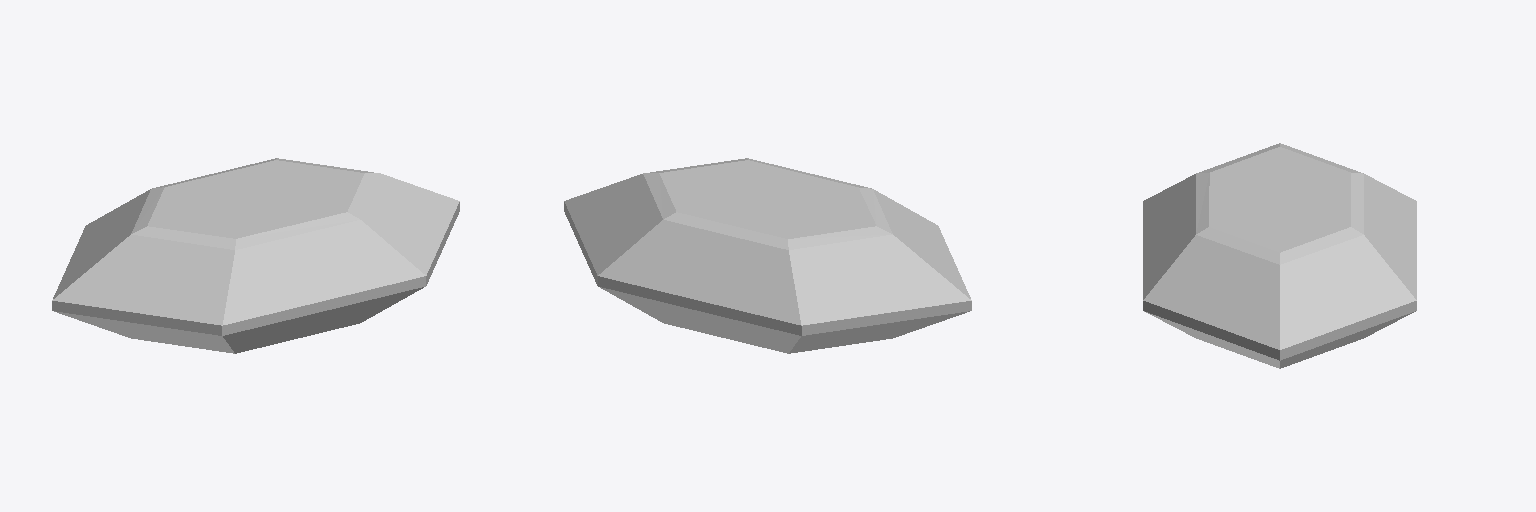
File: Gemstone.obj
The picture shows the model from 3 angles: view 1: azimuth 30°, elevation 25°; view 2: azimuth 150°, elevation 25°; view 3: azimuth 270°, elevation 25°; orthographic projection.
Visible parts, largest first — view 1: Gemstone1; view 2: Gemstone1; view 3: Gemstone1.
Part boxes in pixels (bbox=[...]): Gemstone1: bbox=[52, 158, 459, 353]; Gemstone1: bbox=[564, 158, 971, 353]; Gemstone1: bbox=[1143, 143, 1416, 368].
Size of the model in its own units: 68.24 by 18.01 by 39.64.